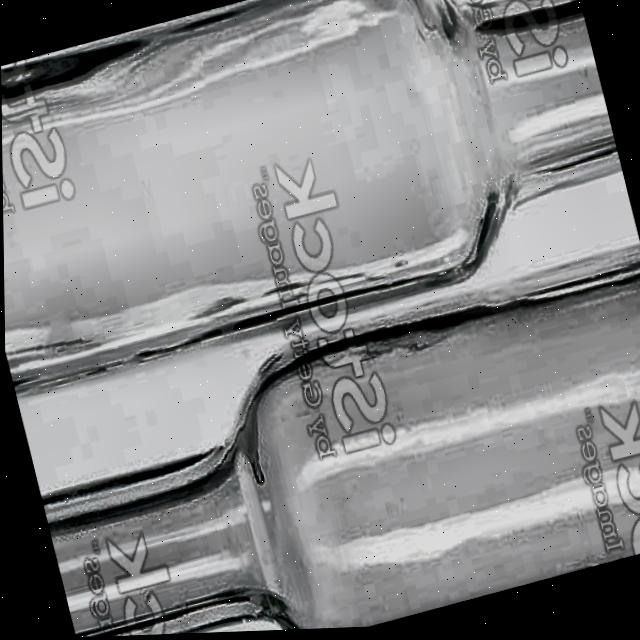glass: (1, 0, 623, 397), (37, 258, 640, 638)
